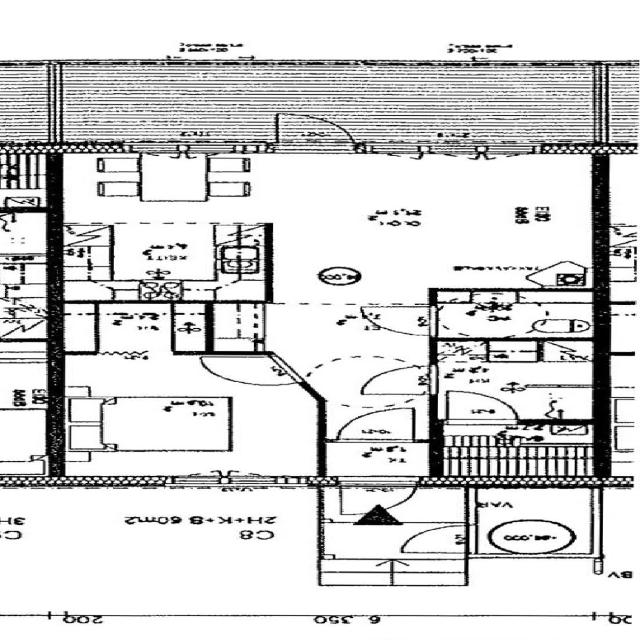door: (334, 407, 421, 442), (196, 353, 278, 386), (439, 390, 518, 422), (355, 306, 435, 337), (357, 364, 434, 396), (395, 523, 471, 555), (355, 483, 418, 512)
zone: (432, 340, 602, 422), (436, 420, 604, 481), (472, 487, 597, 558), (431, 291, 599, 339), (320, 441, 435, 483), (0, 156, 51, 208), (360, 483, 422, 520)
